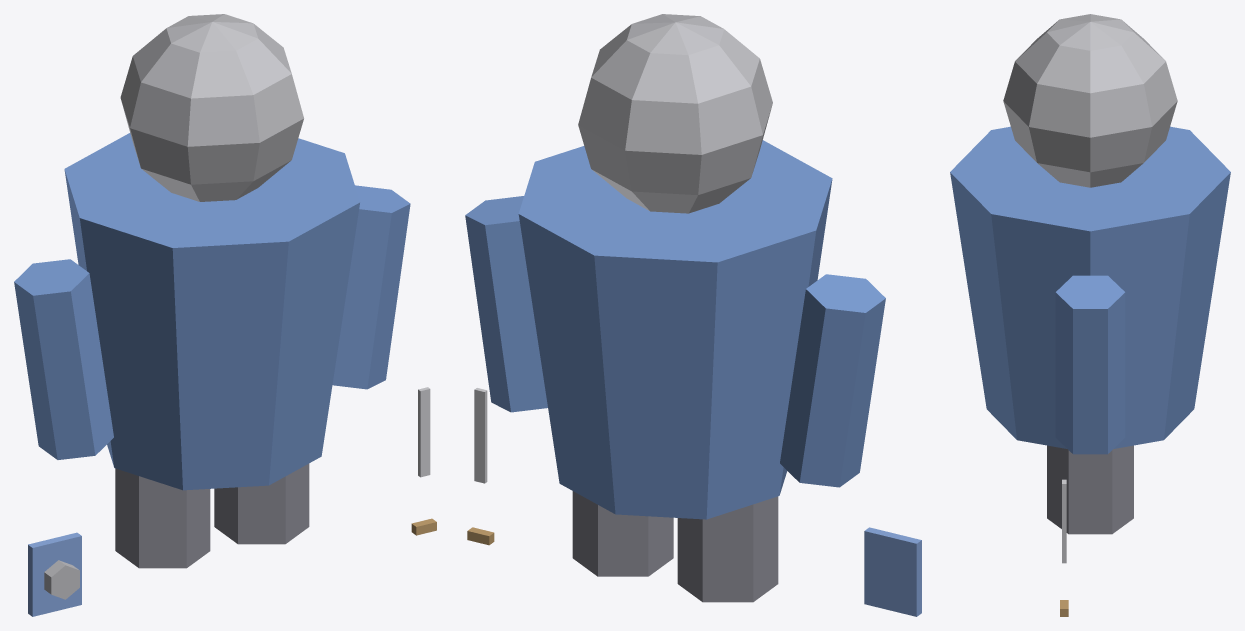
The model's file is knight.glb.
3 views of the same model, side by side, from view 1: azimuth 30°, elevation 25°; view 2: azimuth 150°, elevation 25°; view 3: azimuth 270°, elevation 25° (orthographic). The views are drawn at different scales.
Visible parts, largest first — view 1: knight; view 2: knight; view 3: knight.
Part boxes in pixels (box(x1,y1,x2,y2)): knight: box(14, 14, 436, 616); knight: box(465, 14, 921, 616); knight: box(950, 14, 1230, 616).
Bounding box in the file's own units: 0.5025 × 0.635 × 0.322.
